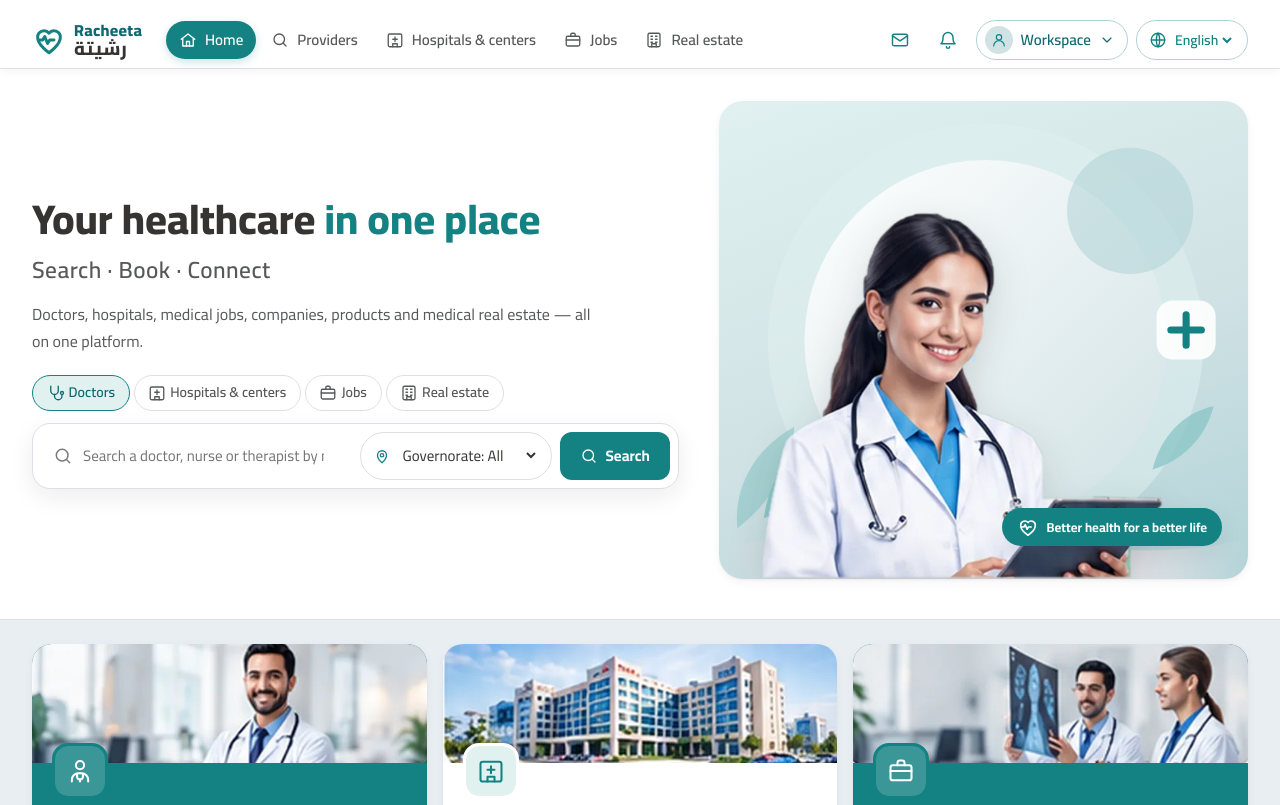
Test: SiteHeader on desktop › toggles with the button, closes on Escape and returns focus to it
This screenshot has width=1280, height=805.
Click the button "Workspace".
click(1052, 40)  # box top-left (976, 20), bottom-right (1128, 60)
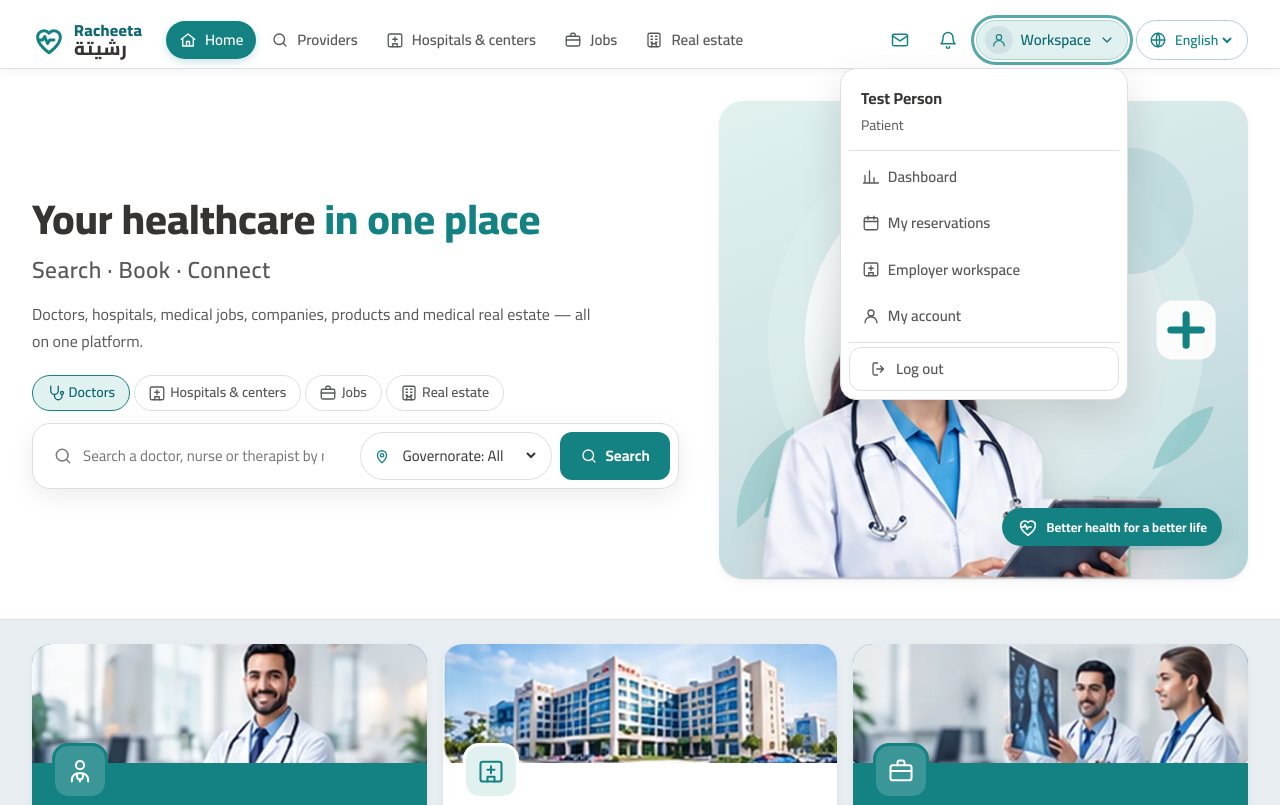
Expected: the button "Workspace" is expanded, top-left (976, 20), bottom-right (1128, 60)
Press Escape
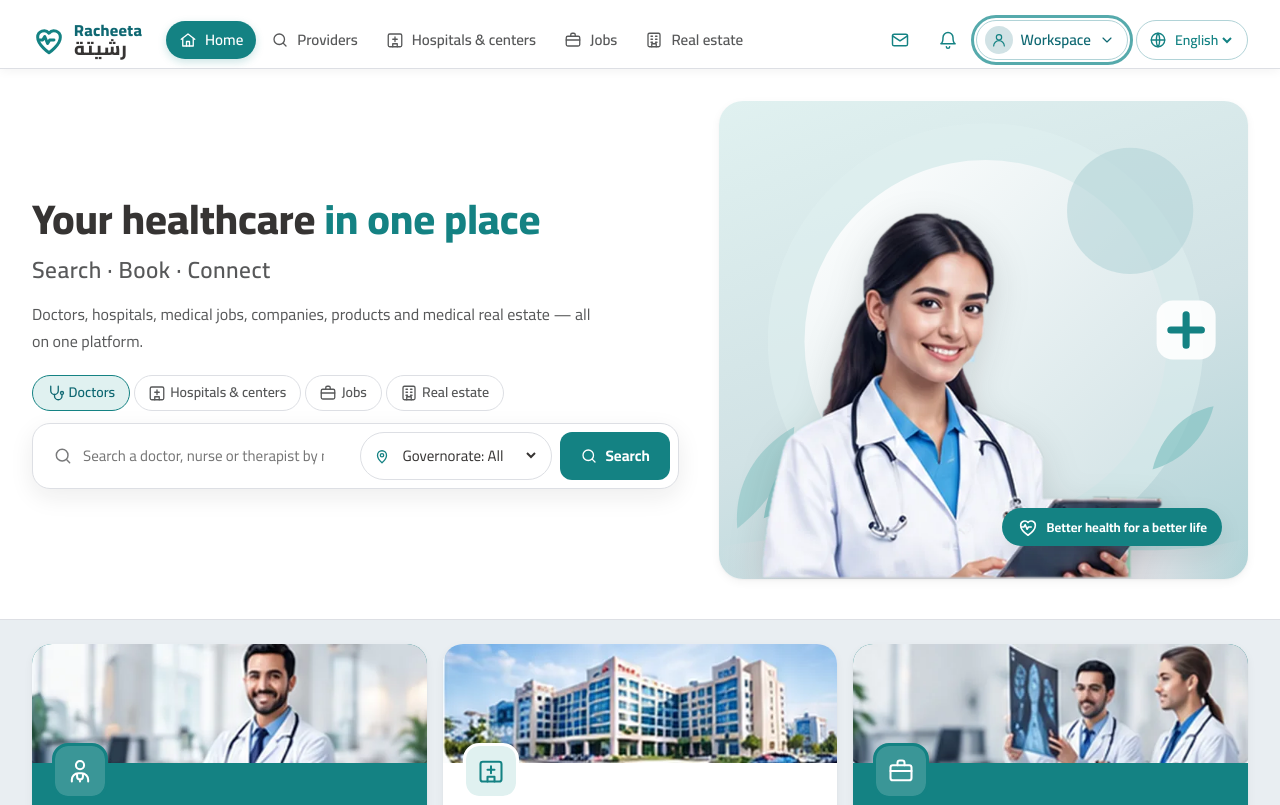
Expected: the button "Workspace" is collapsed, top-left (976, 20), bottom-right (1128, 60)
